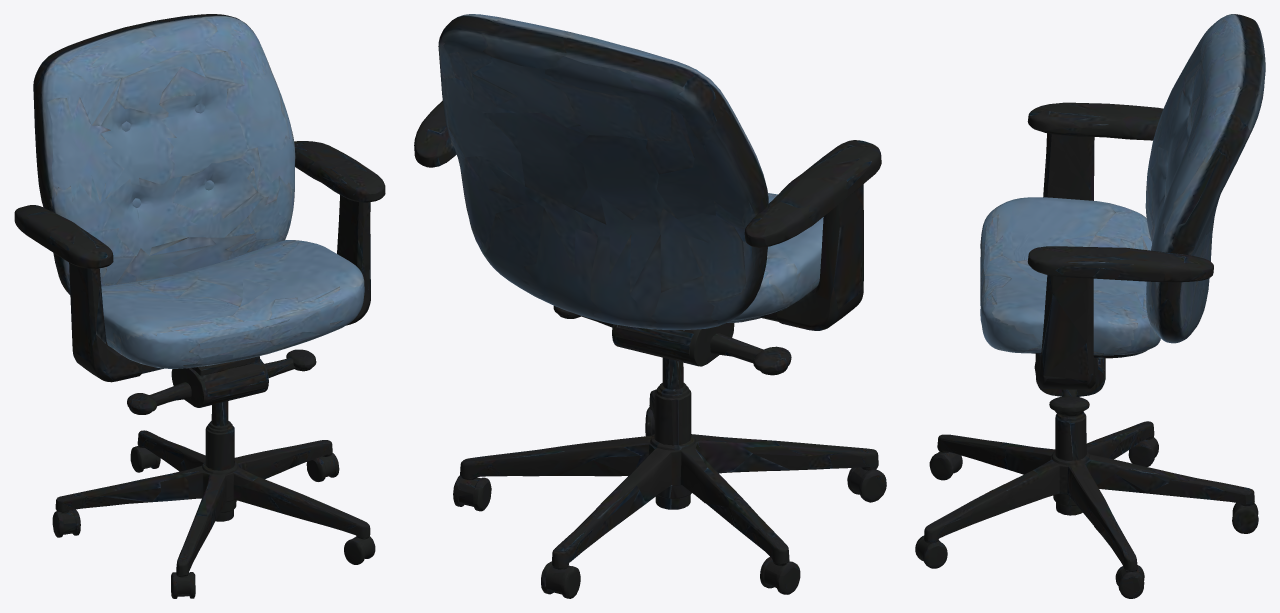
The model's file is os-chair.glb.
The picture shows the model from 3 angles, left to right: view 1: azimuth 30°, elevation 25°; view 2: azimuth 150°, elevation 25°; view 3: azimuth 270°, elevation 25°; orthographic projection. The views are drawn at different scales.
Size of the model in its own units: 1.4 by 1.9 by 1.28.
Materials: 1 (1 with a texture image).
